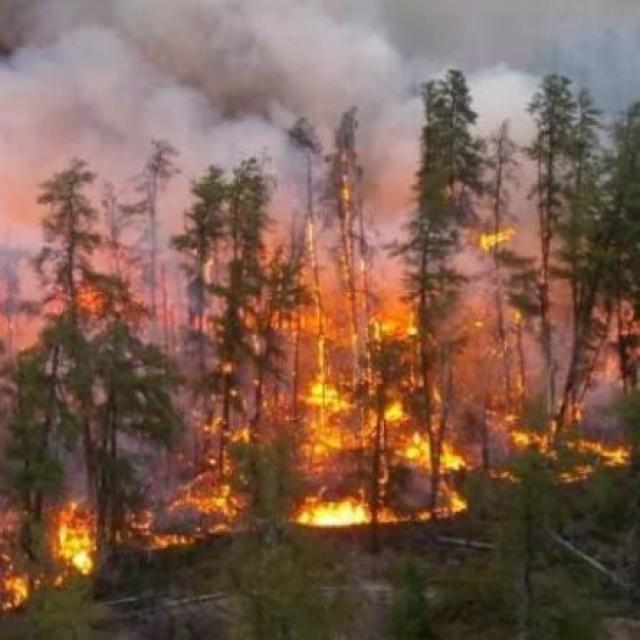Fire: (16, 497, 131, 590), (296, 372, 374, 484), (176, 460, 258, 544), (256, 296, 368, 346), (396, 420, 477, 482), (298, 488, 386, 541), (60, 274, 127, 320), (480, 420, 557, 456), (202, 406, 256, 456), (374, 305, 426, 352), (471, 210, 519, 258), (427, 480, 477, 525), (136, 523, 197, 559), (594, 424, 633, 472), (0, 560, 34, 614), (557, 459, 608, 490), (372, 398, 418, 423)
Smoke: (13, 12, 604, 245)
